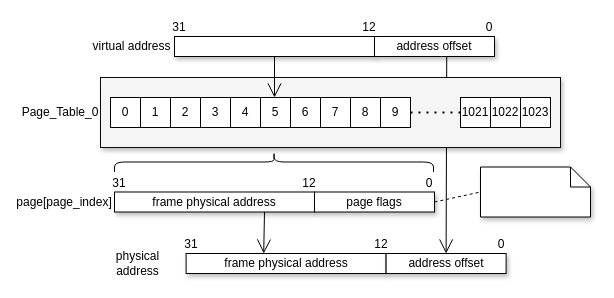
The diagram is 614 pixels wide and 298 high, and some of its shapes have lost their labels. Here are the shapes that lost their labels. From the top down, the centre of each, then its label:
At point (275, 48): "page index".
At point (536, 193): "- access rights - access type - present in RAM?".
